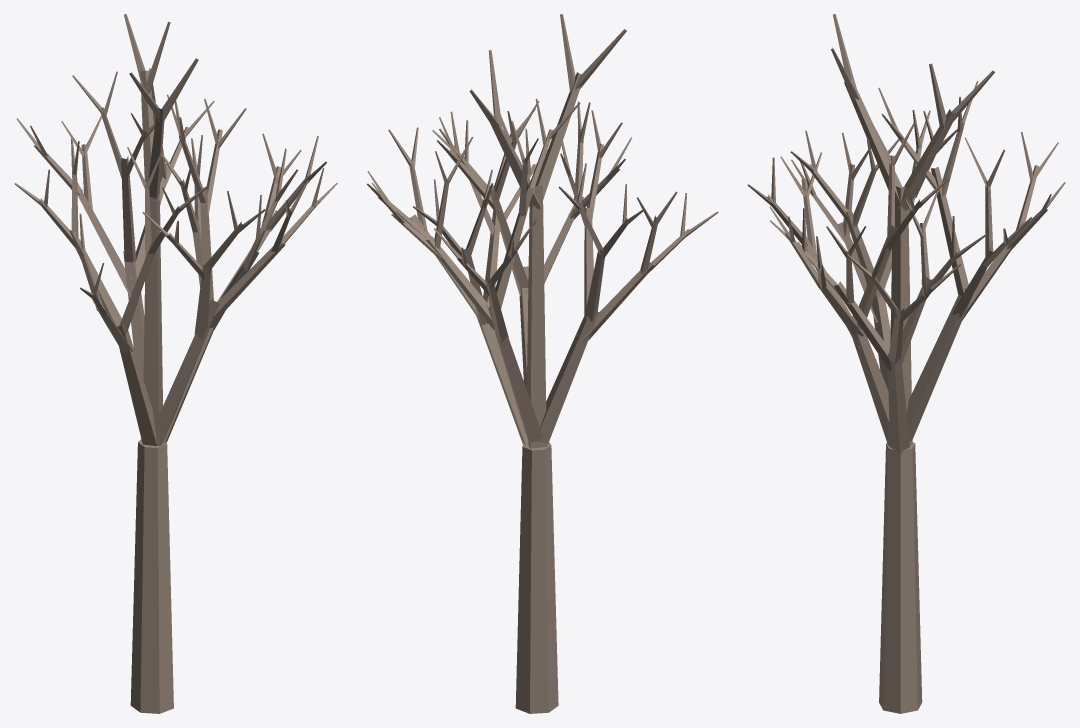
Rendered from tree-broadleaf-d-bare.glb.
3 renders of one model, left to right at view 1: azimuth 30°, elevation 25°; view 2: azimuth 150°, elevation 25°; view 3: azimuth 270°, elevation 25°, orthographic.
Parts seen in each view (by area): view 1: tree-broadleaf-d-bare; view 2: tree-broadleaf-d-bare; view 3: tree-broadleaf-d-bare.
Part boxes in pixels (x1,y1,x2,y2): tree-broadleaf-d-bare: (14, 14, 337, 713); tree-broadleaf-d-bare: (367, 14, 718, 713); tree-broadleaf-d-bare: (747, 14, 1065, 713).
Size of the model in its own units: 0.5174 by 1.15 by 0.5008.
